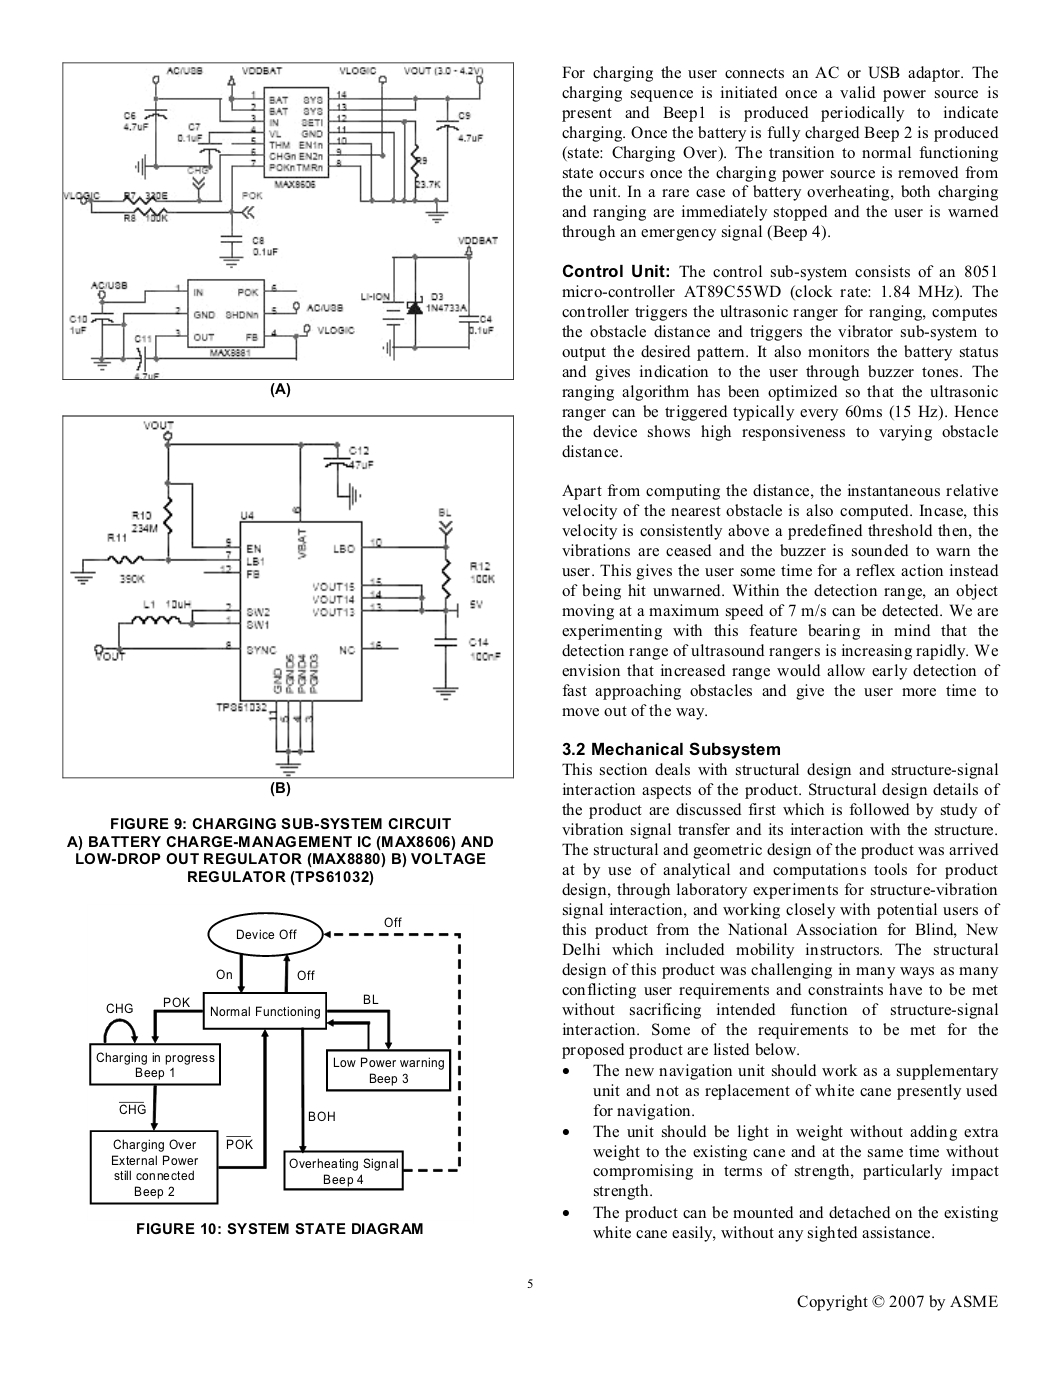figure: (62, 413, 513, 797), (62, 61, 513, 380), (89, 911, 460, 1205)
